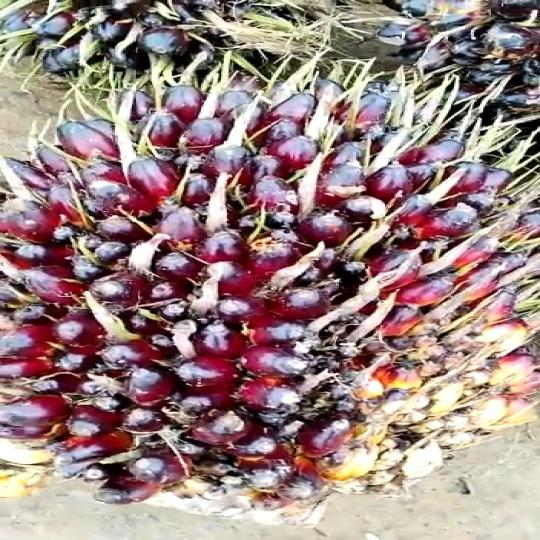mentah: (7, 61, 540, 504)
